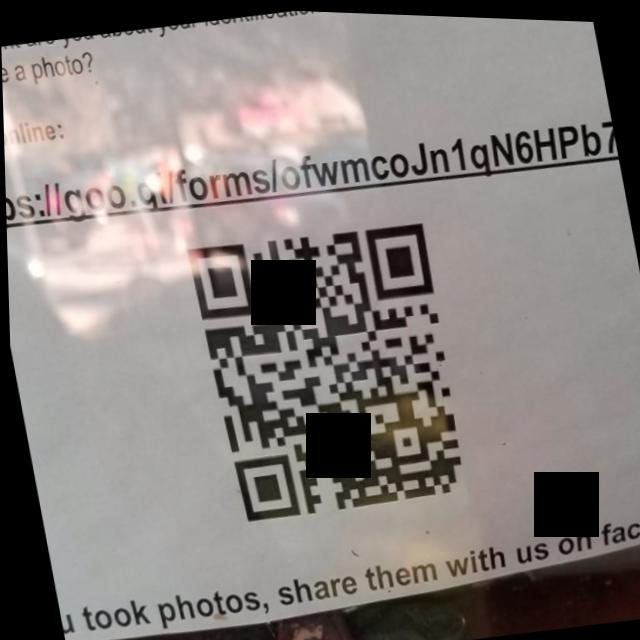QR_CODE: (168, 178, 488, 562)
